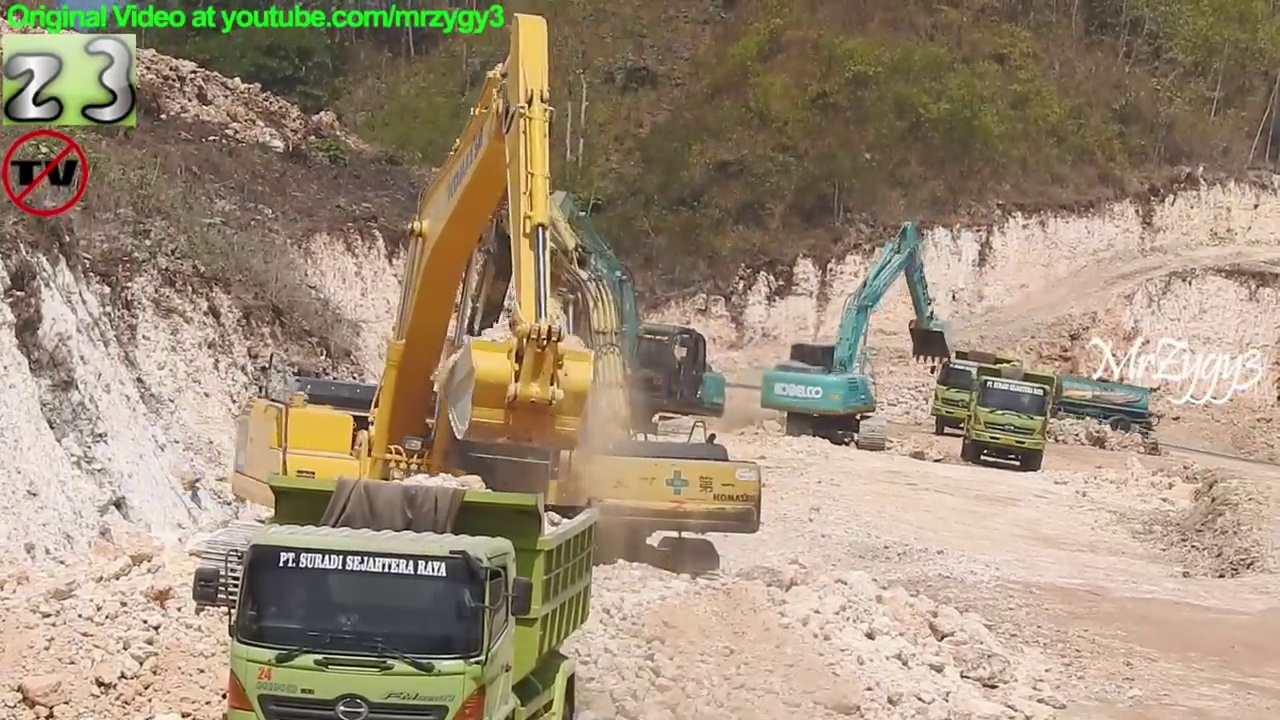excavator: (196, 6, 624, 628), (338, 175, 771, 595), (495, 186, 731, 451), (755, 217, 957, 458)
truck: (189, 469, 605, 720), (1000, 357, 1165, 440), (958, 362, 1064, 478), (926, 343, 1029, 443)
